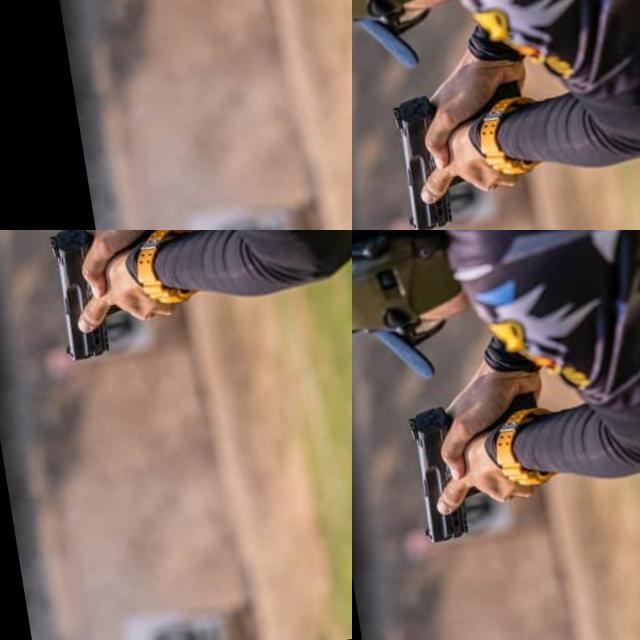handgun: (27, 378, 246, 640), (110, 0, 352, 230), (383, 0, 521, 162), (401, 398, 489, 546)
